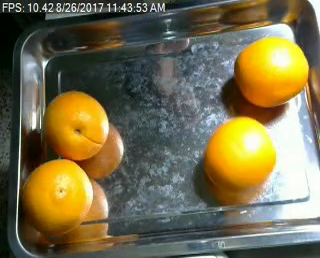Orange: (202, 115, 275, 192), (22, 158, 94, 236), (234, 37, 310, 108), (43, 90, 109, 160)
